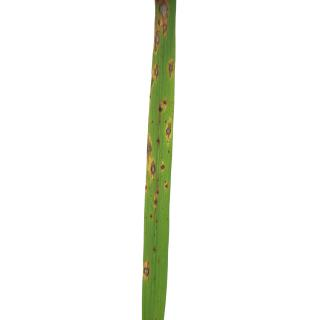Blast: (151, 61, 162, 88), (143, 258, 152, 284), (152, 188, 162, 210), (159, 1, 169, 21), (156, 101, 167, 116), (165, 121, 172, 143), (154, 28, 159, 54), (168, 58, 173, 81), (148, 138, 153, 158), (161, 160, 167, 173), (152, 162, 156, 179), (162, 24, 166, 36)
